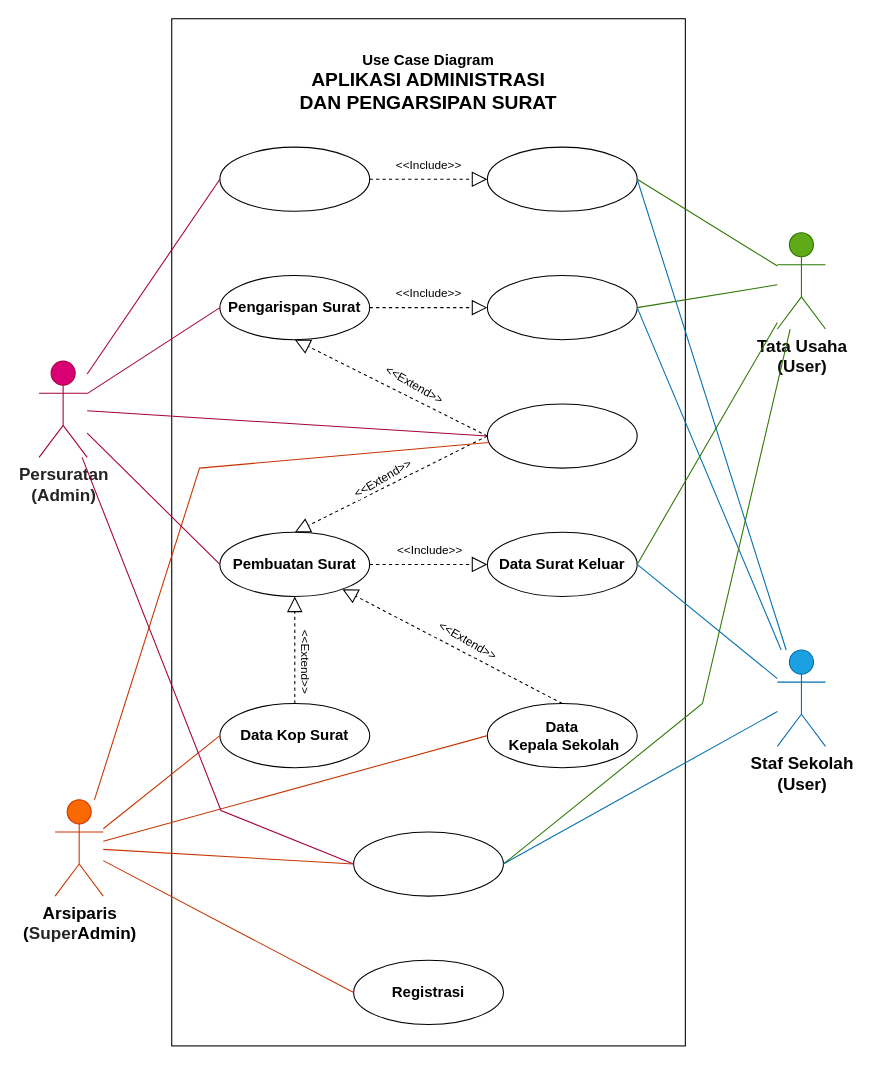
This 871x1065 diagram has some shape labels left out. The centre of each missing label's shape, as x and y in pixels:
Data Arsip: the point at 561,307
Data Surat Masuk: the point at 561,178
Kode Surat: the point at 561,435
Pendataan Surat Masuk: the point at 294,178
Profile: the point at 428,863
